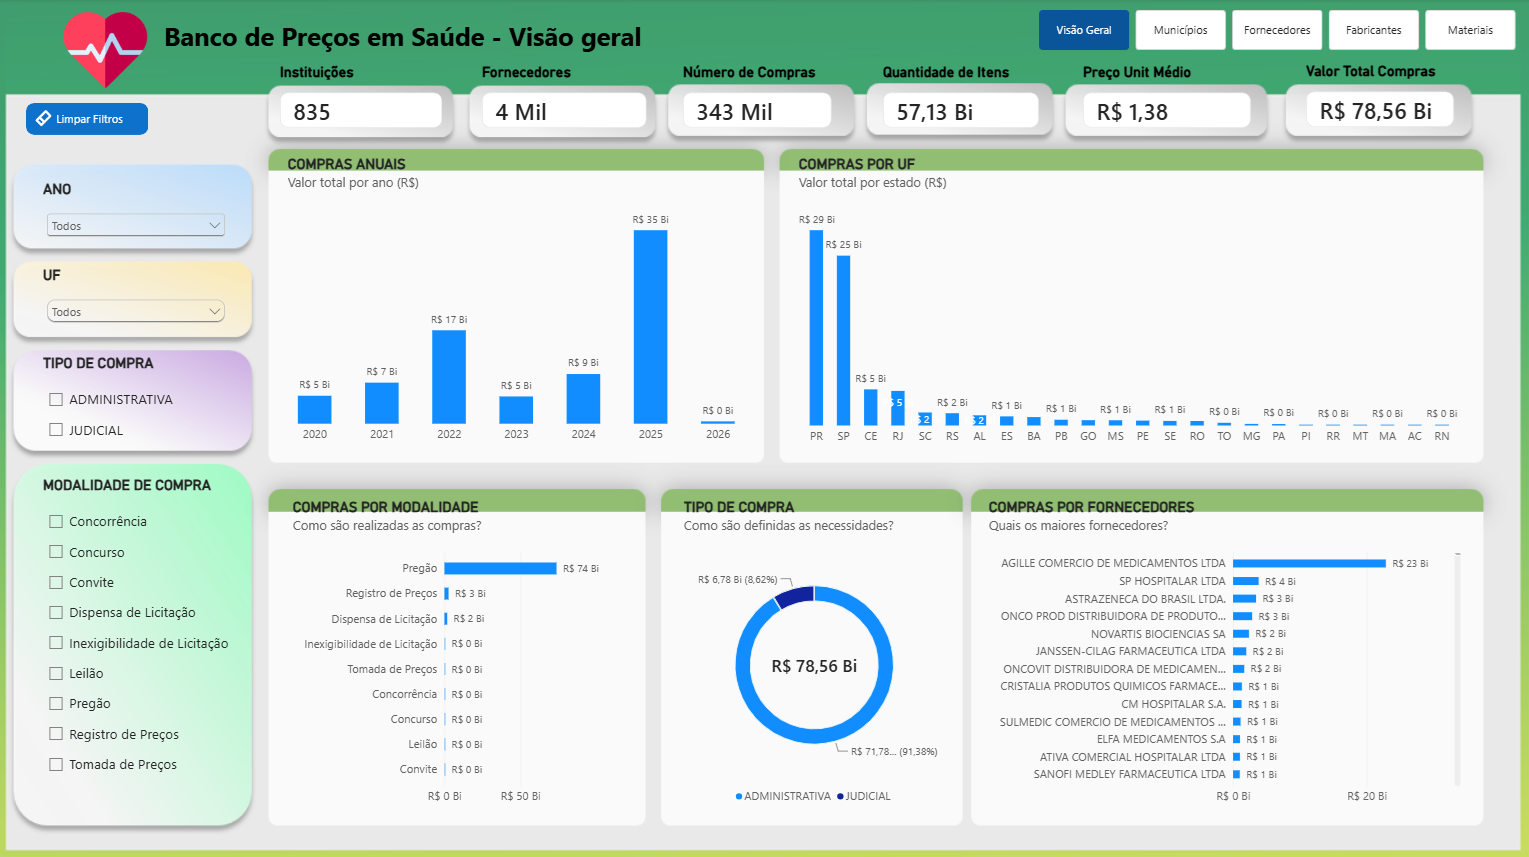

The dashboard page shown, as its layout file describes it:
{"tool":"powerbi","page":{"name":"Visão Geral","canvas":[1920,1080],"ordinal":0},"visuals":[{"type":"barChart","title":"COMPRAS POR MODALIDADE","fields":{"Category":["Dim_modalidade_compra.modalidade_compra"],"Y":["Sum(Fato_BPS_20_2026.preco_total_reais)"]},"box":[353.3,611.1,442.2,417.8],"z":0},{"type":"cardVisual","title":"Fornecedores","fields":{"Data":["Medidas_BPS.Fornecedores"]},"box":[606.7,80,206.7,81.7],"z":1000},{"type":"cardVisual","title":"Instituições","fields":{"Data":["Medidas_BPS.Instituicoes Compradoras"]},"box":[353.2,80.2,203.1,81.5],"z":2000},{"type":"barChart","title":"COMPRAS POR FORNECEDORES","fields":{"Category":["Dim_fornecedor.fornecedor"],"Y":["_Medidas.Valor Total Registrado"]},"box":[1225.6,611.1,623.3,417.8],"z":3000},{"type":"columnChart","title":"COMPRAS POR UF","fields":{"Category":["Dim_municipios.uf"],"Y":["Sum(Fato_BPS_20_2026.preco_total_reais)"]},"box":[987.8,181.1,860,396.7],"z":4000},{"type":"donutChart","title":"TIPO DE COMPRA","fields":{"Category":["Dim_tipo_compra.tipo_compra"],"Y":["Sum(Fato_BPS_20_2026.preco_total_reais)"]},"box":[843.3,611.1,358.9,417.8],"z":5000},{"type":"cardVisual","title":"Número de Compras","fields":{"Data":["_Medidas.Numero de Registros"]},"box":[858.3,80,186.7,81.7],"z":6000},{"type":"cardVisual","title":"Quantidade de Itens","fields":{"Data":["_Medidas.Quantidade Total de Itens"]},"box":[1108.3,80,195,81.7],"z":7000},{"type":"cardVisual","title":"Preço Unit Médio","fields":{"Data":["_Medidas.Preco Unitario Medio Ponderado"]},"box":[1360,80,210,81.7],"z":8000},{"type":"cardVisual","title":"Valor Total Compras","fields":{"Data":["_Medidas.Valor Total Registrado"]},"box":[1638.3,78.3,185,81.7],"z":9000},{"type":"columnChart","title":"COMPRAS ANUAIS","fields":{"Category":["Dim_ano.ano"],"Y":["Sum(Fato_BPS_20_2026.preco_total_reais)"]},"box":[346.7,181.1,604.4,394.4],"z":10000},{"type":"textbox","box":[208.3,23.3,874.6,71.2],"z":11000},{"type":"image","box":[78.3,11.7,110,105],"z":17001},{"type":"pageNavigator","box":[1304.2,14.2,600,50],"z":17002},{"type":"slicer","title":"TIPO DE COMPRA","fields":{"Values":["Dim_tipo_compra.tipo_compra"]},"box":[56.9,445.1,233.3,118.3],"z":17003},{"type":"slicer","title":"MODALIDADE DE COMPRA","fields":{"Values":["Dim_modalidade_compra.modalidade_compra"]},"box":[56.9,597.7,233.3,393.3],"z":17004},{"type":"slicer","title":"ANO","fields":{"Values":["Dim_ano.ano"]},"box":[56.7,226.7,233.3,125],"z":17005},{"type":"slicer","title":"UF","fields":{"Values":["Dim_municipios.uf"]},"box":[56.9,335.1,233.3,73.3],"z":17006},{"type":"actionButton","box":[35,130,153.3,40],"z":17007}]}

Visuals, with their boxes in screenshot pixels (x1, y1, x2, y2), scaled from the page's 1920x1080 canvas onto the 1529x857 screenshot:
"COMPRAS POR MODALIDADE" barChart: region(281, 485, 633, 816)
"Fornecedores" cardVisual: region(483, 63, 648, 128)
"Instituições" cardVisual: region(281, 64, 443, 128)
"COMPRAS POR FORNECEDORES" barChart: region(976, 485, 1472, 816)
"COMPRAS POR UF" columnChart: region(787, 144, 1472, 458)
"TIPO DE COMPRA" donutChart: region(672, 485, 957, 816)
"Número de Compras" cardVisual: region(684, 63, 832, 128)
"Quantidade de Itens" cardVisual: region(883, 63, 1038, 128)
"Preço Unit Médio" cardVisual: region(1083, 63, 1250, 128)
"Valor Total Compras" cardVisual: region(1305, 62, 1452, 127)
"COMPRAS ANUAIS" columnChart: region(276, 144, 757, 457)
textbox: region(166, 18, 862, 75)
image: region(62, 9, 150, 93)
pageNavigator: region(1039, 11, 1516, 51)
"TIPO DE COMPRA" slicer: region(45, 353, 231, 447)
"MODALIDADE DE COMPRA" slicer: region(45, 474, 231, 786)
"ANO" slicer: region(45, 180, 231, 279)
"UF" slicer: region(45, 266, 231, 324)
actionButton: region(28, 103, 150, 135)
